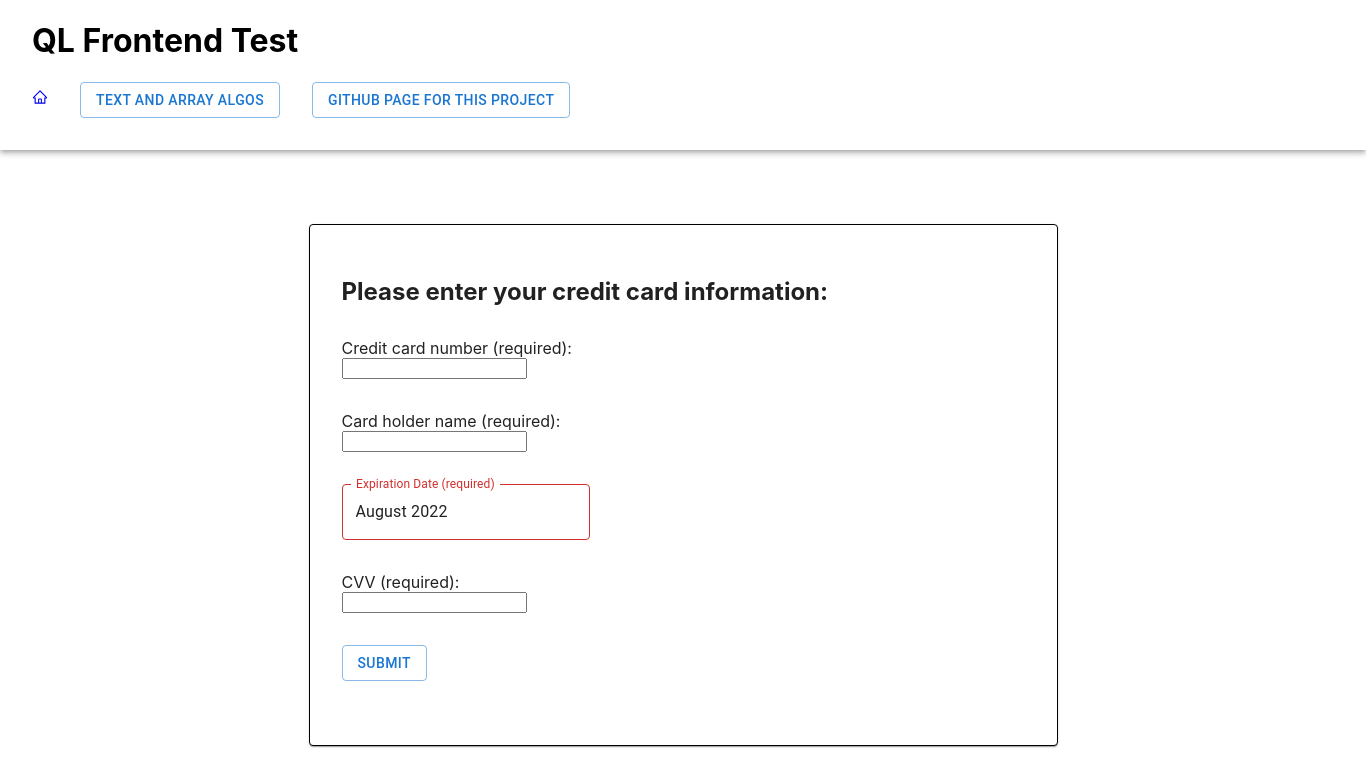
Test case: credit card component renders with appropriate content and is fillable with input values dependent on the form validation constraints › entering text in credit card holder input field should work, but inputting numbers should not
The image size is (1366, 768).
Type "123string" into the field with class "cCHolder".
click(435, 442); type("123string")  # box [342, 431, 527, 452]
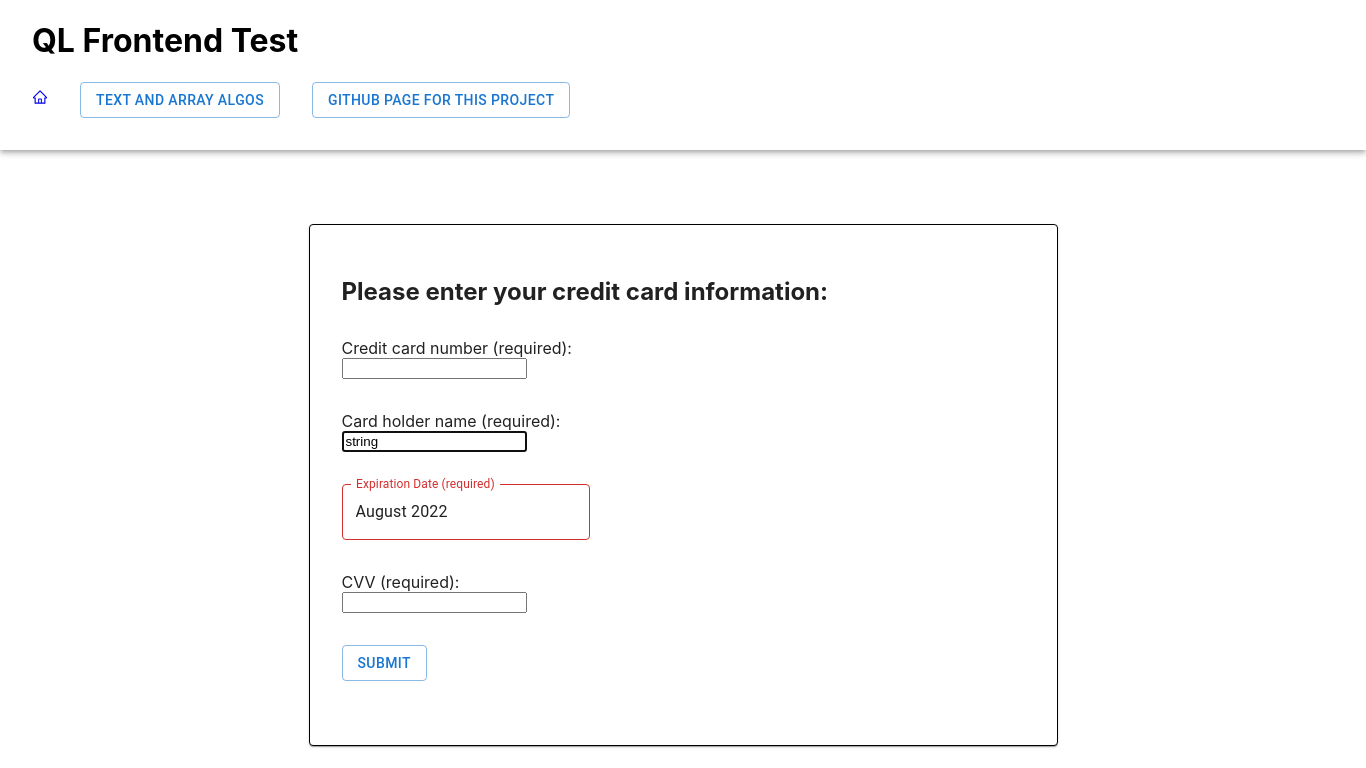
Expected: the field with class "cCHolder" holds "string", [342, 431, 527, 452]
